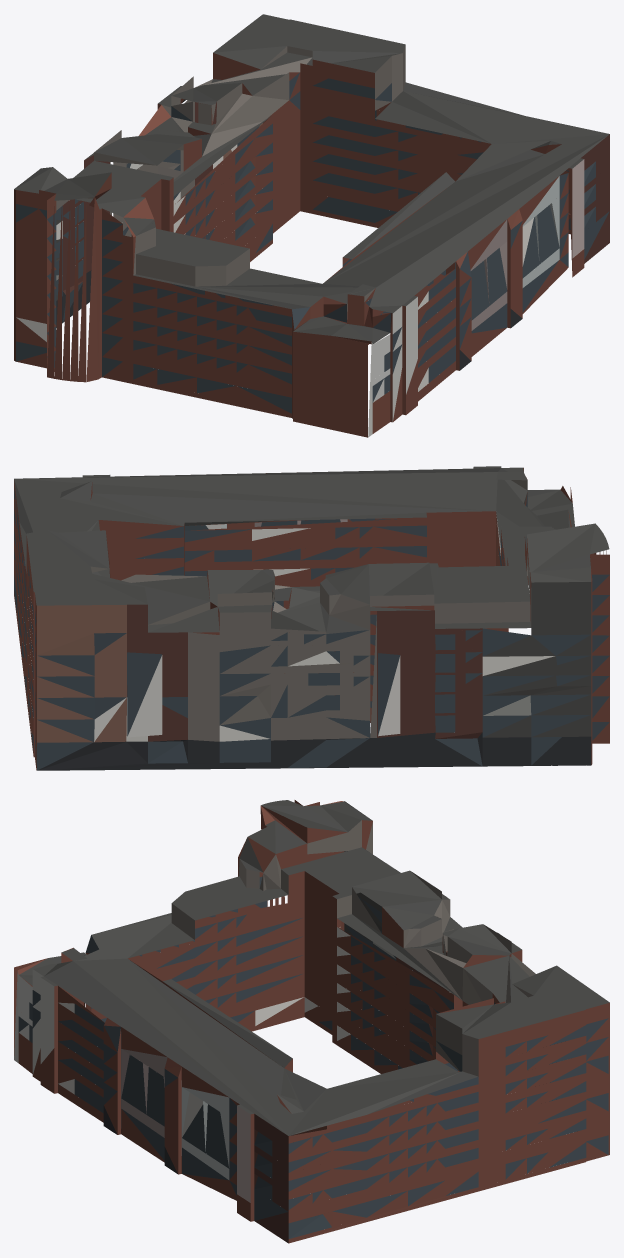
The model's file is rapenburgerstraat-4.lod2.glb.
3 renders of one model, top to bottom at view 1: azimuth 30°, elevation 25°; view 2: azimuth 150°, elevation 25°; view 3: azimuth 270°, elevation 25°, orthographic. The views are drawn at different scales.
Parts seen in each view (by area): view 1: lod2; view 2: lod2; view 3: lod2.
Part boxes in pixels (x1,y1,x2,y2): lod2: [14, 14, 609, 437]; lod2: [14, 466, 609, 770]; lod2: [14, 800, 609, 1243].
Size of the model in its own units: 81.65 by 25.53 by 75.23.
